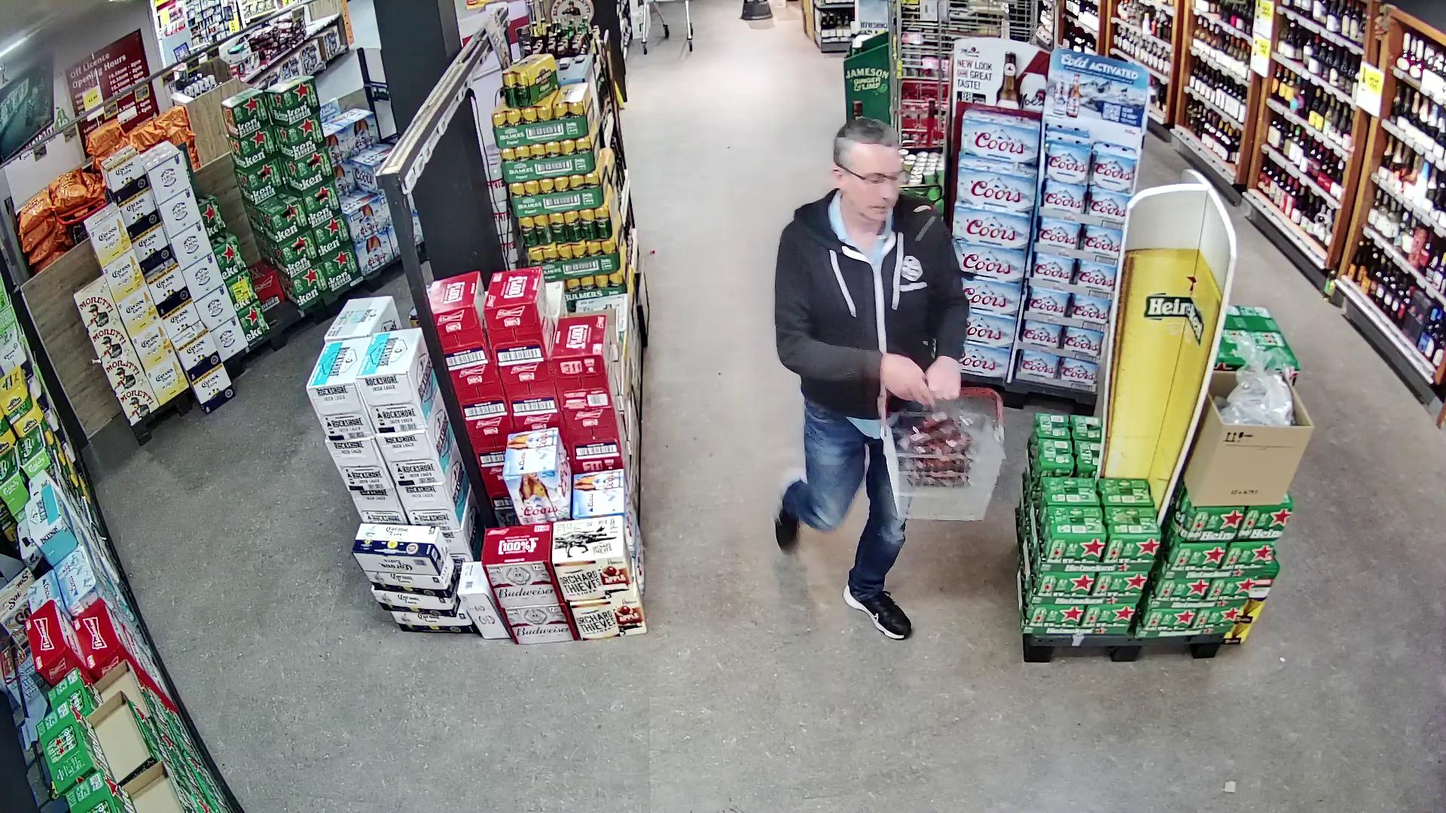filled-basket: (878, 377, 1007, 523)
person: (774, 118, 969, 639)
person-with-filled-basket-trolly: (775, 116, 1008, 643)
